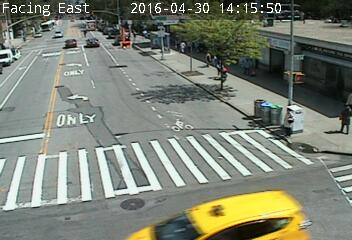neg: (6, 39, 17, 54)
pos: (332, 100, 351, 138)
